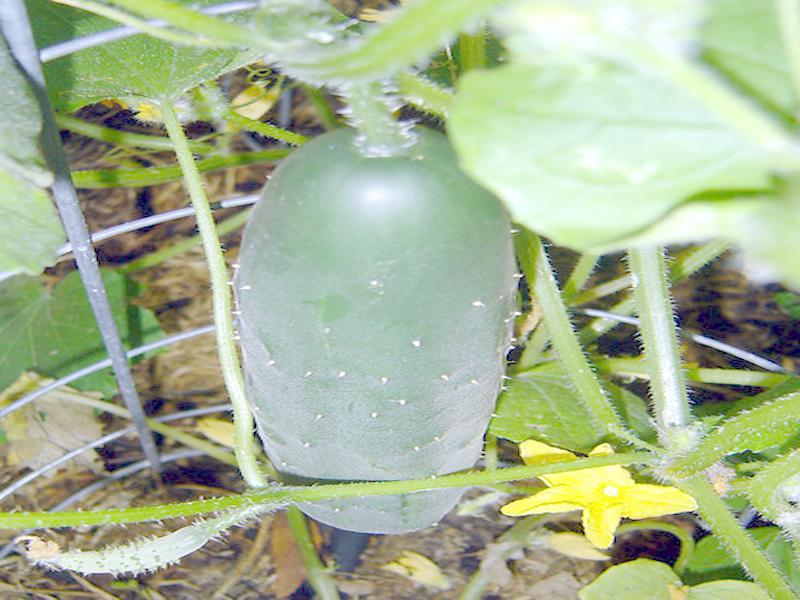Cucumber: (229, 125, 515, 532)
